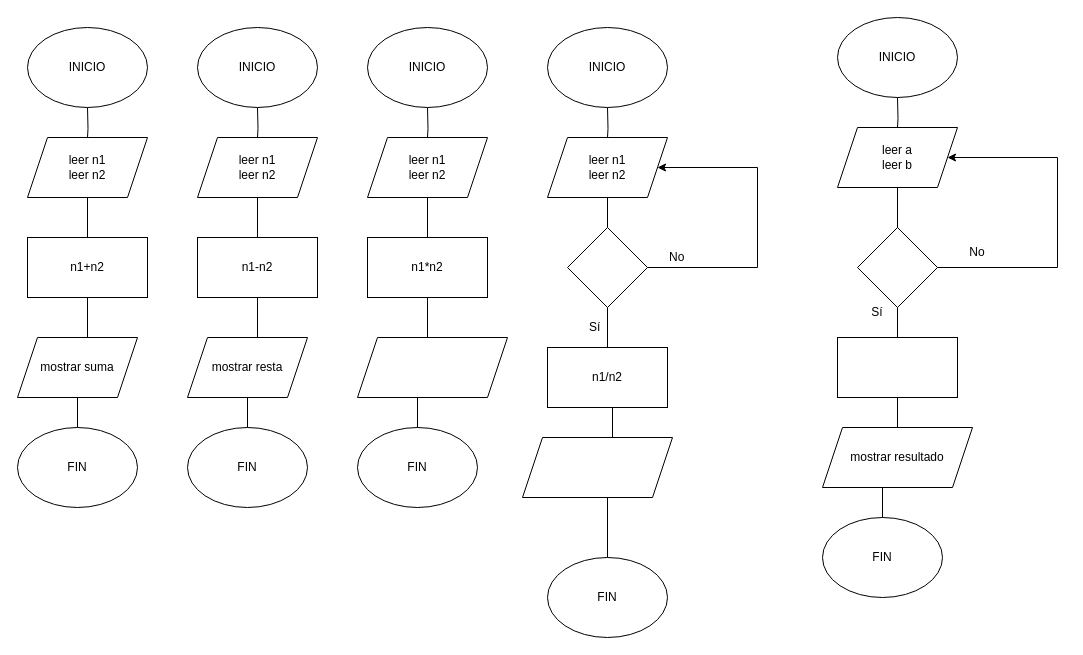
The diagram is 1083 pixels wide and 655 high, and some of its shapes have lost their labels. Here are the shapes that lost their labels. From the top down, the centre of each, then its label:
(x=607, y=267): n2!=0
(x=897, y=267): Si b!=0
(x=432, y=367): mostrar multiplicacion
(x=897, y=367): q=floor(a/b) p=q*b resultado=a-p
(x=597, y=467): mostrar division
